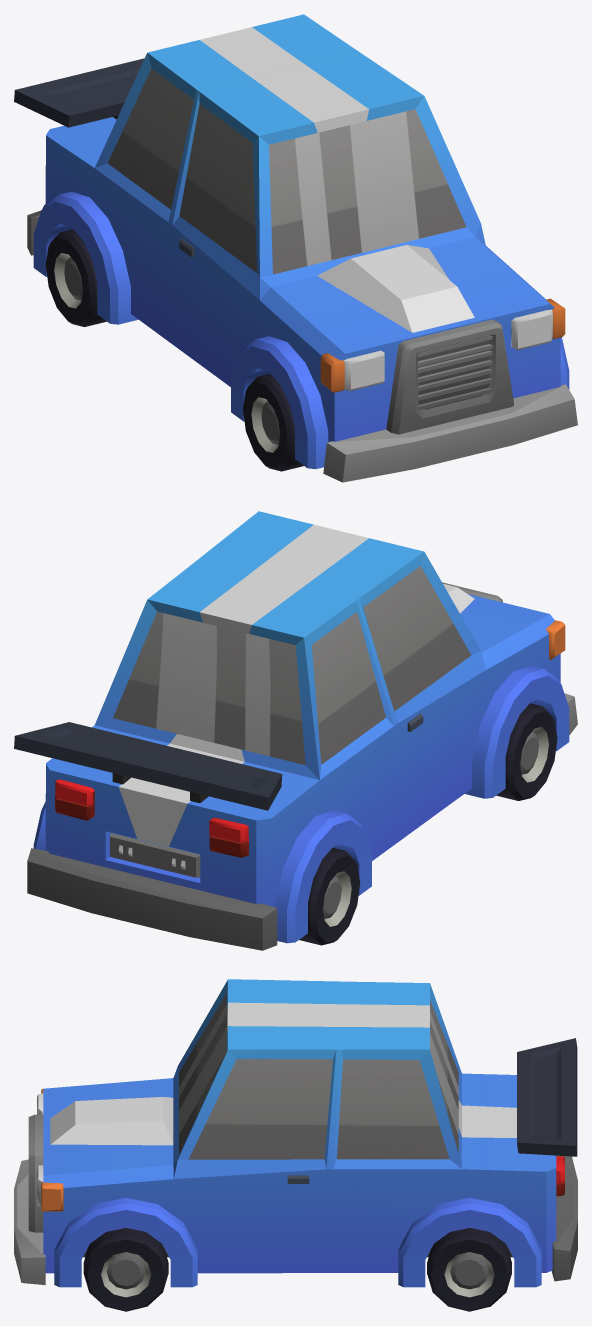
File: SportCar_1.glb
3 renders of one model, top to bottom at view 1: azimuth 30°, elevation 25°; view 2: azimuth 150°, elevation 25°; view 3: azimuth 270°, elevation 25°, orthographic. The views are drawn at different scales.
Visible parts, largest first — view 1: SportCar_1, Wheel_fr, Wheel_br; view 2: SportCar_1, Wheel_br, Wheel_fr; view 3: SportCar_1, Wheel_fl, Wheel_bl.
Part boxes in pixels (left/top/right/bottom): SportCar_1: left=14, top=14, right=577, bottom=482; Wheel_fr: left=243, top=373, right=303, bottom=471; Wheel_br: left=45, top=229, right=106, bottom=326; SportCar_1: left=14, top=511, right=577, bottom=950; Wheel_br: left=299, top=847, right=360, bottom=945; Wheel_fr: left=496, top=703, right=557, bottom=800; SportCar_1: left=14, top=979, right=577, bottom=1287; Wheel_fl: left=83, top=1228, right=168, bottom=1311; Wheel_bl: left=427, top=1228, right=511, bottom=1311.
Size of the model in its own units: 1.12 by 1.1 by 2.33.
7 materials, 7 textured.
